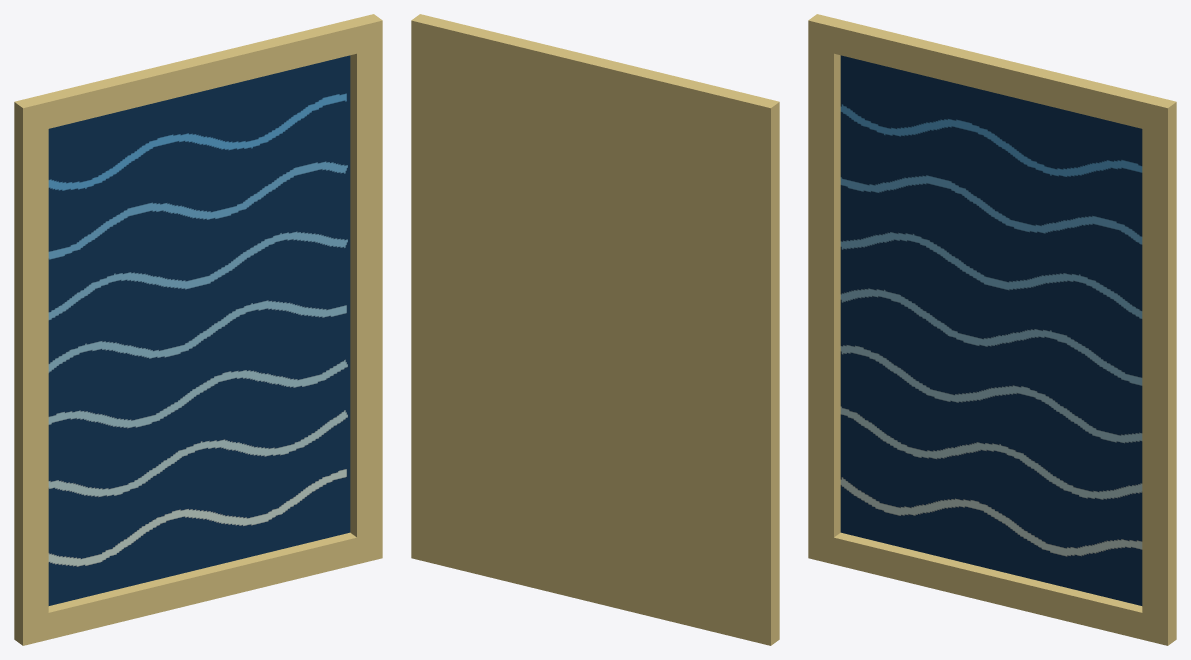
File: wallart_04.glb
The picture shows the model from 3 angles, left to right: view 1: azimuth 30°, elevation 25°; view 2: azimuth 150°, elevation 25°; view 3: azimuth 330°, elevation 25°; orthographic projection.
Parts seen in each view (by area): view 1: frame; view 2: frame; view 3: frame.
Boxes of the visible parts, <box> form: frame: <box>14,14,382,645</box>; frame: <box>411,14,779,645</box>; frame: <box>808,14,1176,645</box>.
Size of the model in its own units: 0.7 by 1 by 0.03.
Materials: 2 (1 with a texture image).
